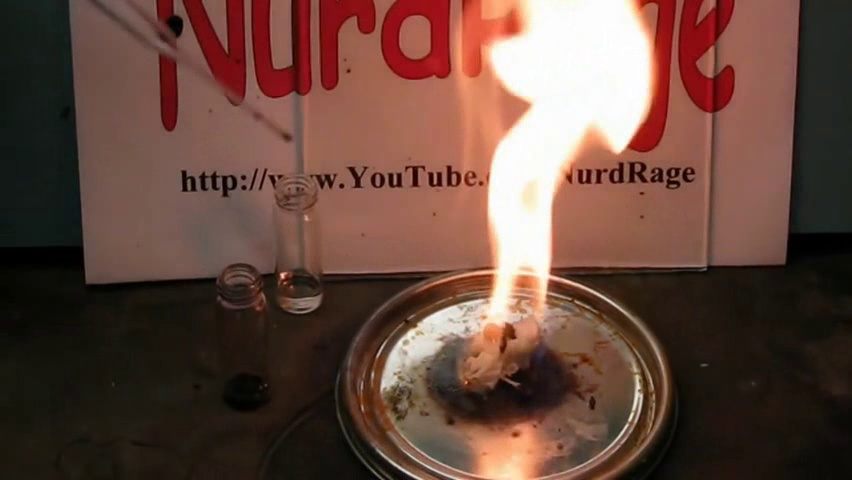fire: (447, 2, 658, 379)
